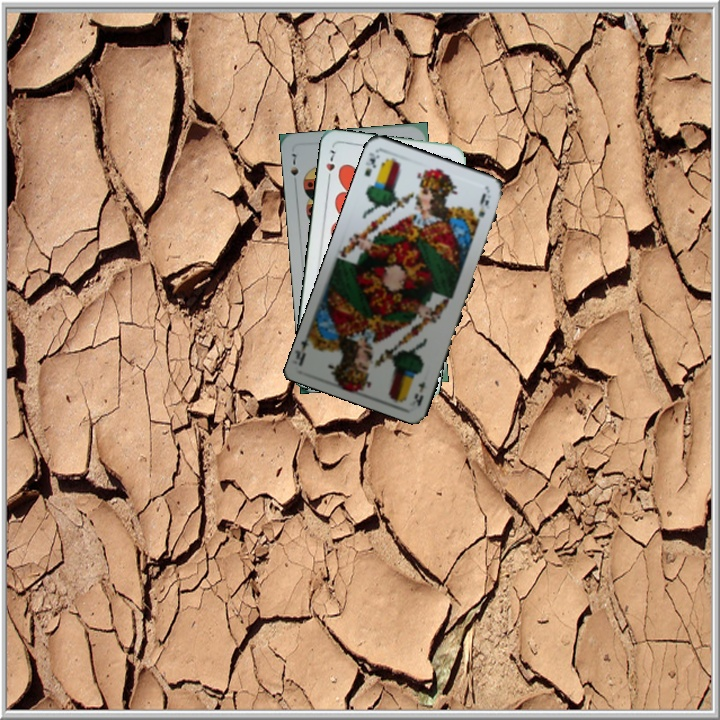EK: (360, 148, 382, 179), (410, 378, 428, 409)
H7: (322, 145, 338, 185)
S7: (287, 149, 301, 188)
